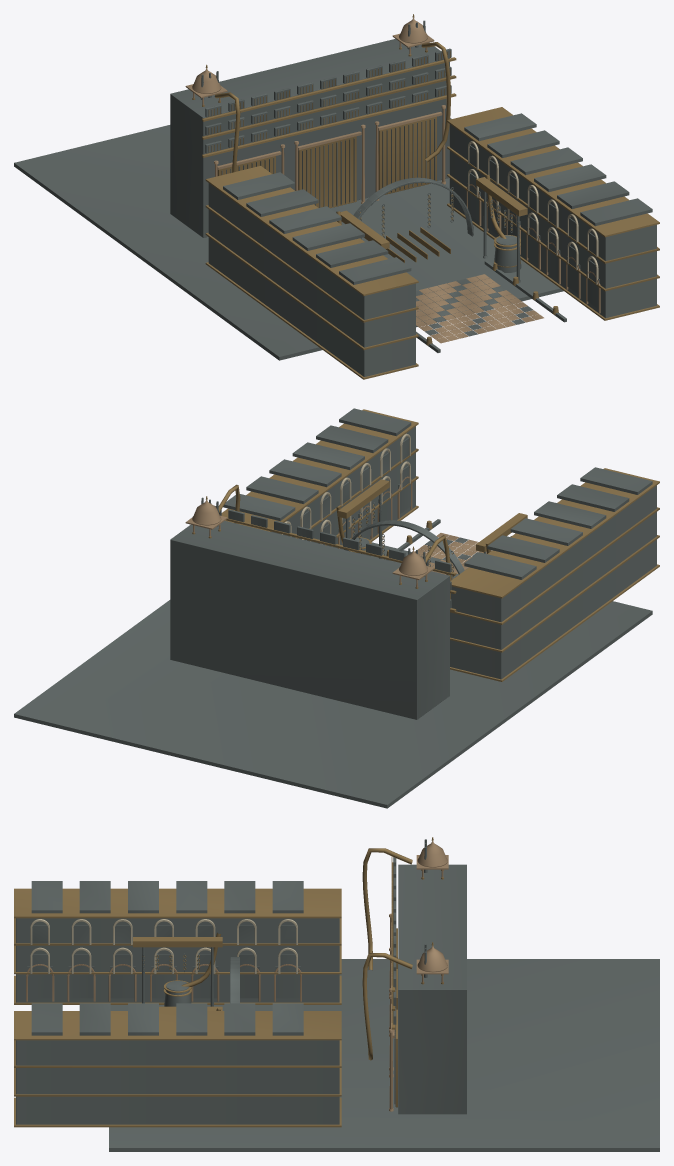
The model's file is arena-20.glb.
The picture shows the model from 3 angles, top to bottom: view 1: azimuth 30°, elevation 25°; view 2: azimuth 150°, elevation 25°; view 3: azimuth 270°, elevation 25°; orthographic projection. The views are drawn at different scales.
Visible parts, largest first — view 1: correction-dark, correction-bronze, correction-sand, correction-plaster; view 2: correction-dark, correction-bronze, correction-sand, correction-plaster; view 3: correction-dark, correction-bronze, correction-sand, correction-plaster.
Part boxes in pixels (box(x1,y1,x2,y2)): correction-dark: box(14, 20, 656, 376); correction-bronze: box(192, 14, 659, 379); correction-sand: box(185, 17, 600, 343); correction-plaster: box(468, 141, 598, 284); correction-dark: box(14, 408, 656, 808); correction-bronze: box(192, 409, 659, 681); correction-sand: box(185, 476, 491, 587); correction-plaster: box(280, 433, 410, 544); correction-dark: box(16, 839, 659, 1151); correction-bronze: box(14, 837, 443, 1127); correction-sand: box(26, 840, 448, 1111); correction-plaster: box(30, 919, 297, 973).
Bounding box in the file's own units: 65 × 26.86 × 93.8.
